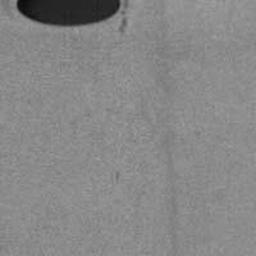Punching: (14, 0, 120, 29)
